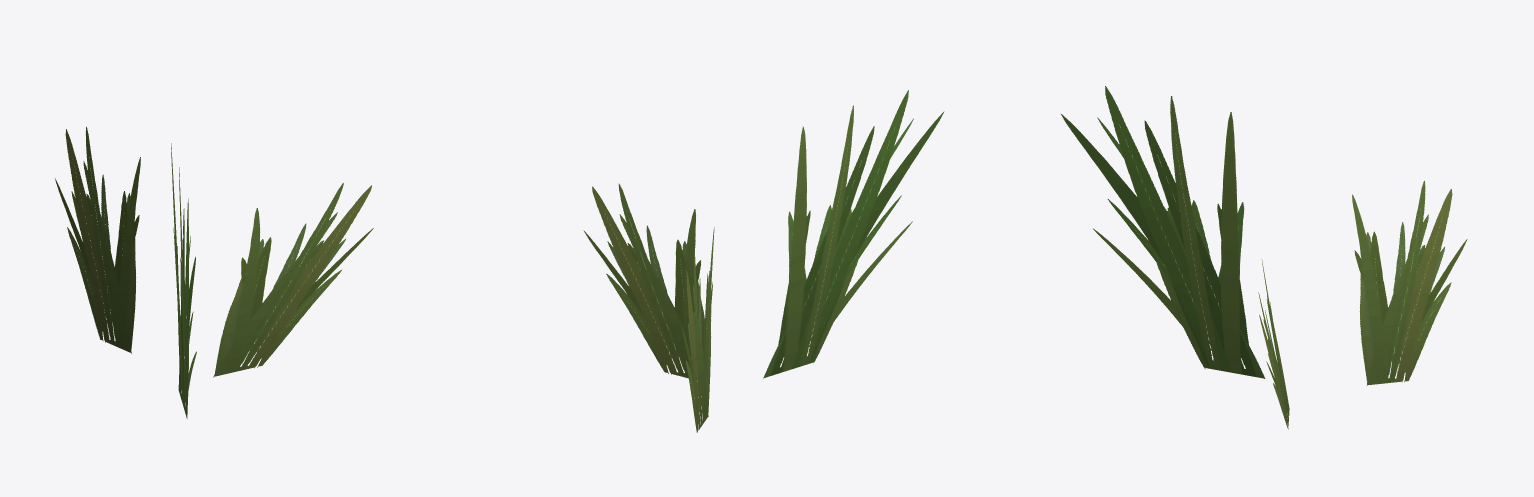
Rendered from forest_grass_002_b_LOD2.gltf.
3 views of the same model, side by side, from view 1: azimuth 30°, elevation 25°; view 2: azimuth 150°, elevation 25°; view 3: azimuth 270°, elevation 25° (orthographic). The views are drawn at different scales.
Parts seen in each view (by area): view 1: forest_grass_002_b_LOD2; view 2: forest_grass_002_b_LOD2; view 3: forest_grass_002_b_LOD2.
Boxes of the visible parts, x1,y1,x2,y2 form: forest_grass_002_b_LOD2: [55, 126, 373, 418]; forest_grass_002_b_LOD2: [583, 90, 944, 432]; forest_grass_002_b_LOD2: [1061, 86, 1467, 429].
Bounding box in the file's own units: 0.7667 × 0.6567 × 0.8772.
1 material, 1 textured.
